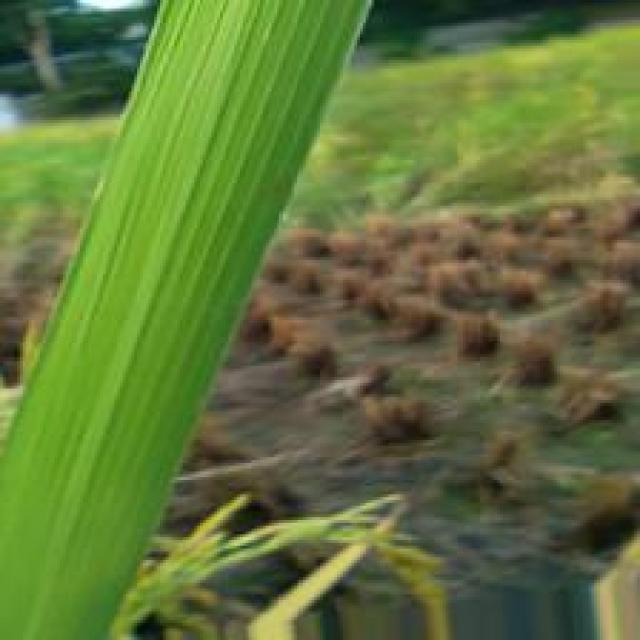HealthyLeaf: (3, 5, 355, 616)
